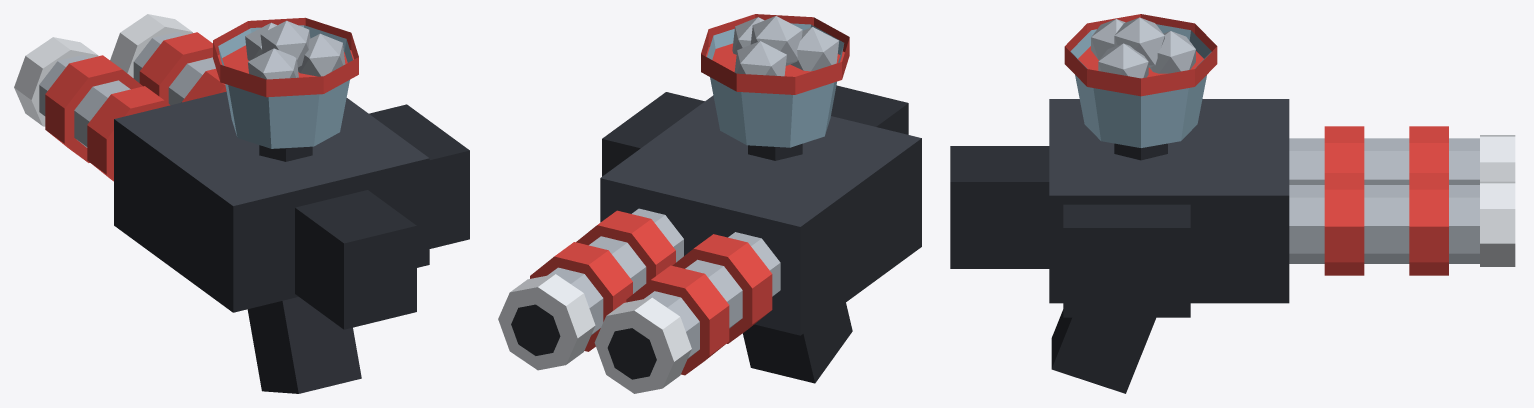
File: G_Miknato_2.fbx
3 views of the same model, side by side, from view 1: azimuth 30°, elevation 25°; view 2: azimuth 150°, elevation 25°; view 3: azimuth 270°, elevation 25° (orthographic).
Visible parts, largest first — view 1: G_Miknato_2; view 2: G_Miknato_2; view 3: G_Miknato_2.
Part boxes in pixels (x1=…): G_Miknato_2: x1=14, y1=14, x2=469, y2=393; G_Miknato_2: x1=498, y1=14, x2=921, y2=393; G_Miknato_2: x1=950, y1=14, x2=1515, y2=393.
Size of the model in its own units: 0.2915 by 0.409 by 0.5844.
